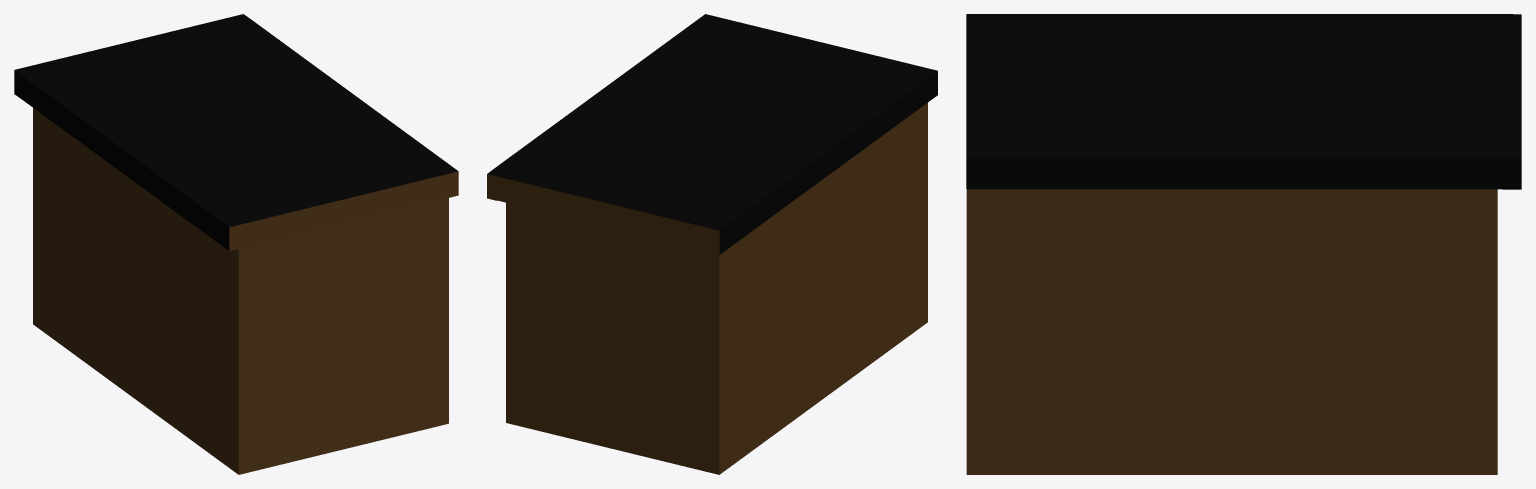
File: counter_end.fbx
3 views of the same model, side by side, from view 1: azimuth 30°, elevation 25°; view 2: azimuth 150°, elevation 25°; view 3: azimuth 270°, elevation 25° (orthographic). The views are drawn at different scales.
Parts seen in each view (by area): view 1: Cube; view 2: Cube; view 3: Cube.
Boxes of the visible parts, x1,y1,x2,y2 form: Cube: [14, 14, 458, 474]; Cube: [487, 14, 937, 474]; Cube: [966, 14, 1521, 474].
Bounding box in the file's own units: 449 × 468 × 730.
